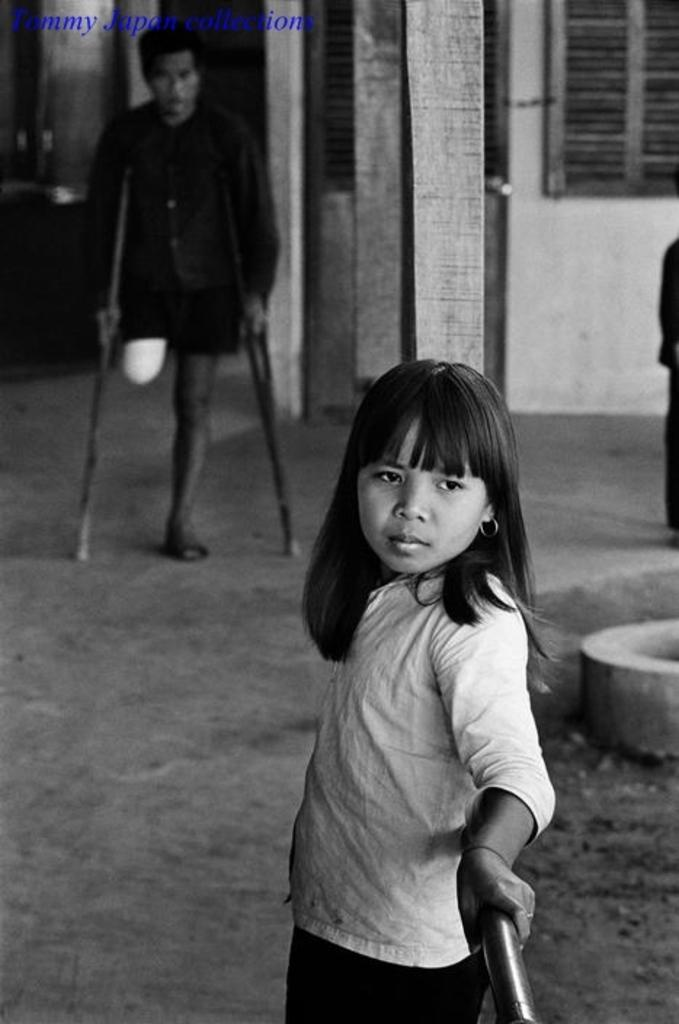crutches: (60, 14, 306, 571)
